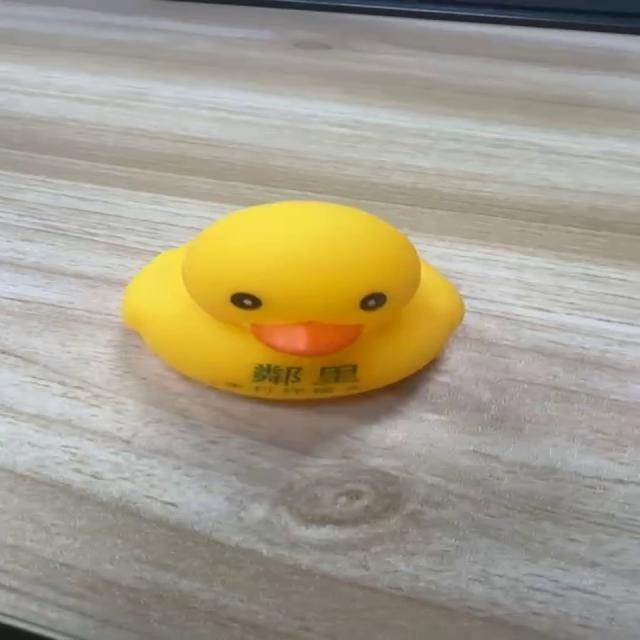yellow_duck: (120, 199, 466, 402)
